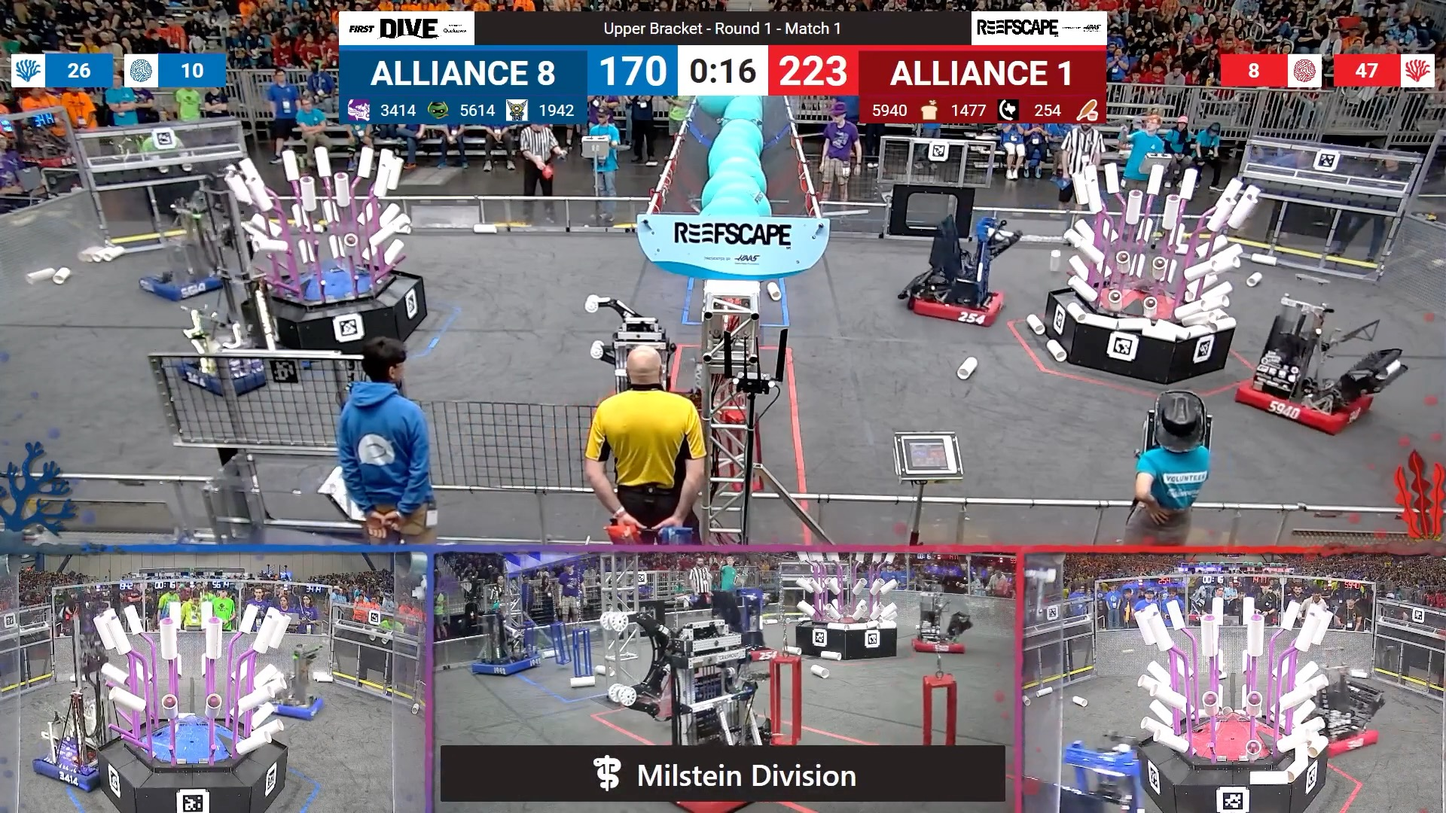bumpers: (1221, 371, 1382, 439), (900, 279, 1015, 335), (162, 352, 302, 396), (28, 738, 115, 789), (131, 265, 234, 304), (1307, 720, 1388, 760), (259, 690, 330, 724), (466, 653, 543, 681), (910, 630, 969, 654)
